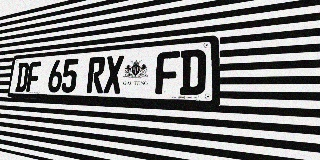5: (61, 58, 79, 93)
6: (47, 60, 64, 93)
D: (179, 49, 206, 95), (15, 62, 29, 92)
F: (155, 51, 180, 95), (26, 61, 41, 92)
R: (86, 56, 106, 93)
X: (103, 55, 124, 94)
